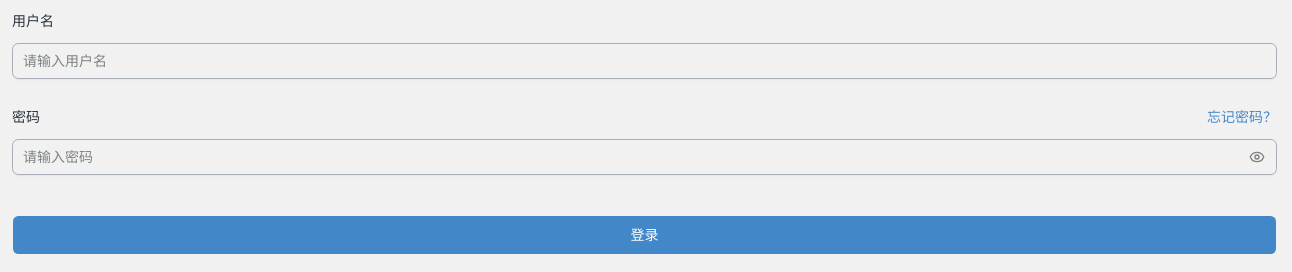
Scenario: LoginForm › rejects a username with outer spaces
Type " eleno" into the field labelled "用户名".
click(644, 61); type(" eleno")  # box [12,43,1277,79]
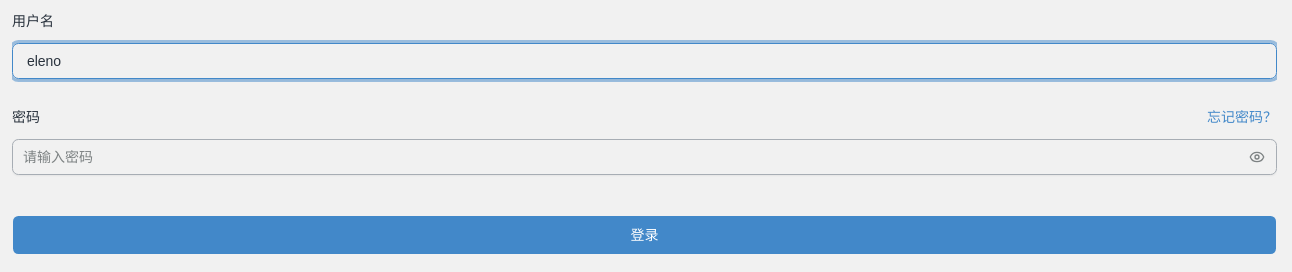
Type "secret" into the password field labelled "密码".
click(644, 157); type("secret")  # box [12,139,1277,175]
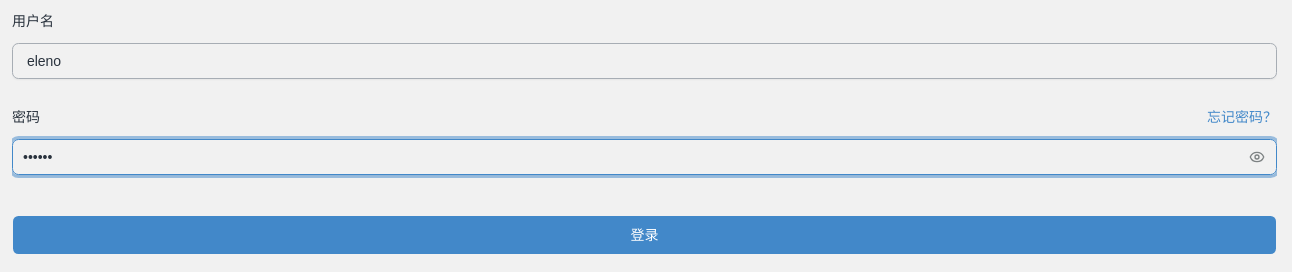
Click the button "登录".
click(644, 235)  # box [12,215,1277,255]
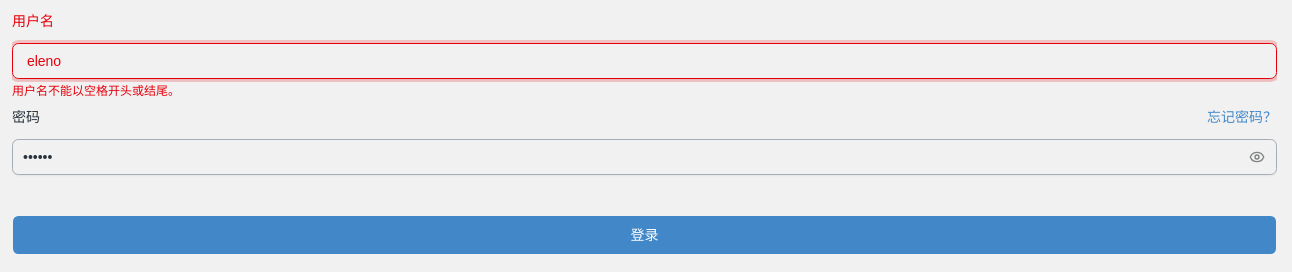
Check: the text "用户名不能以空格开头或结尾。" is shown, box [12,84,180,98]
